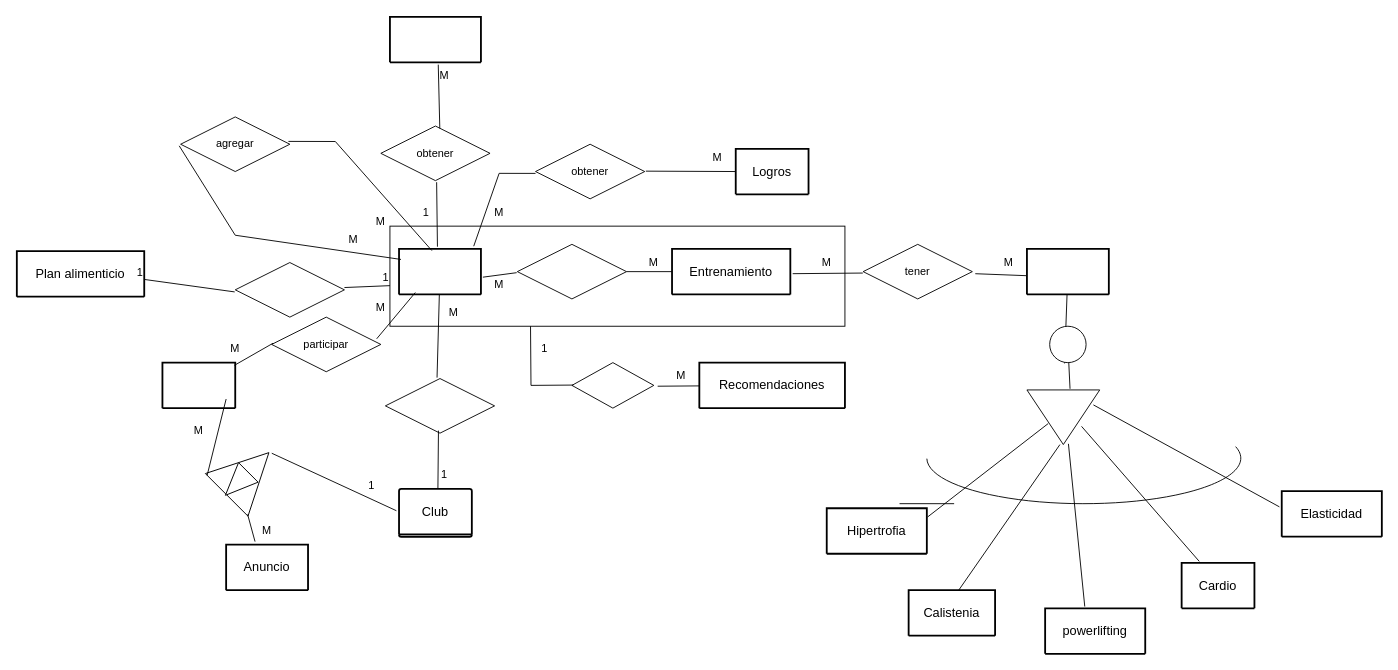
Some shapes in this 1398 by 670 pixel diagram are drawn without their labels. Here are the shapes that lost their labels. From the top down, the centre of each, then its label:
At (435,39): "Progreso".
At (289,289): "plantear".
At (439,271): "Usuario".
At (571,271): "realizar".
At (1067,271): "Ejercicio".
At (198,385): "Evento".
At (439,405): "formar_parte".
At (612,385): "recibir".
